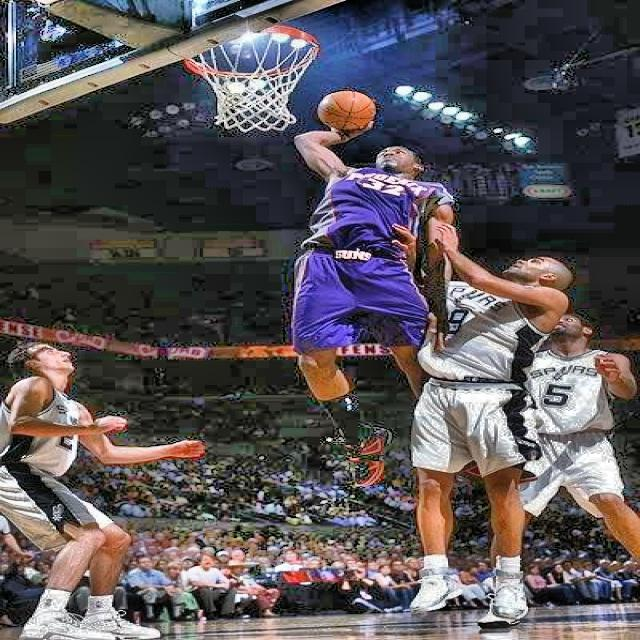board: (314, 92, 377, 128)
rim: (182, 26, 318, 130)
